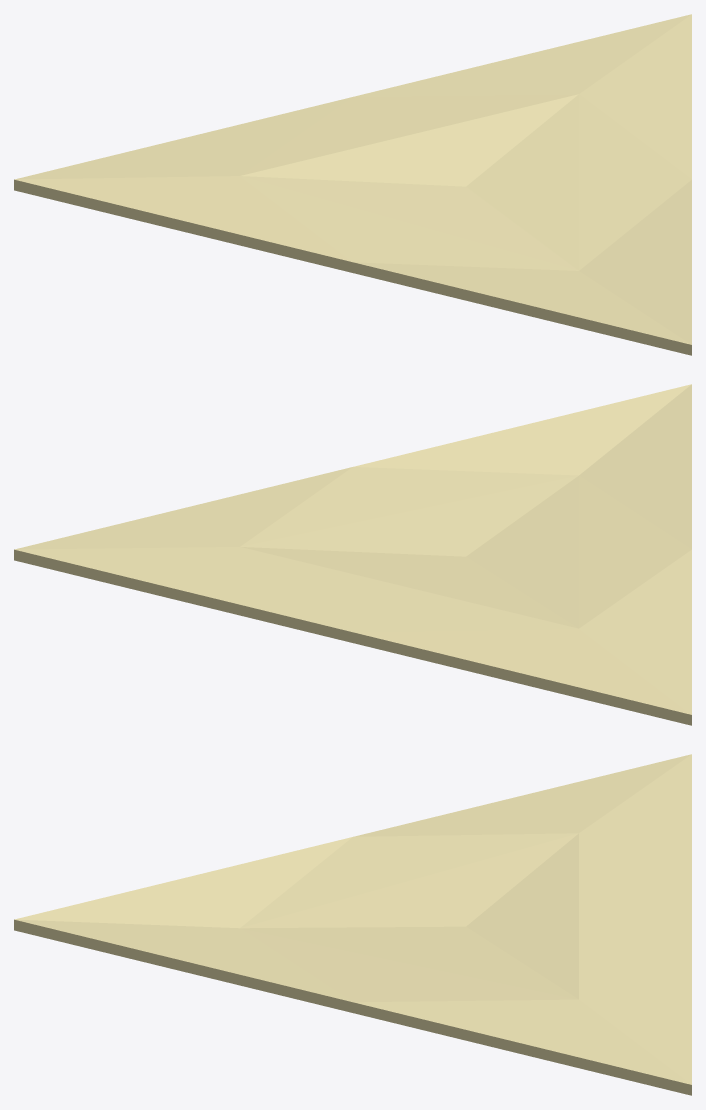
The model's file is tile4.glb.
3 views of the same model, one above another, from view 1: azimuth 30°, elevation 25°; view 2: azimuth 150°, elevation 25°; view 3: azimuth 270°, elevation 25° (orthographic).
Visible parts, largest first — view 1: sand4.001; view 2: sand4.001; view 3: sand4.001.
Boxes of the visible parts, <box> form: sand4.001: <box>14,14,691,355</box>; sand4.001: <box>14,384,691,725</box>; sand4.001: <box>14,754,691,1095</box>.
Size of the model in its own units: 1 by 0.0203 by 0.866.
